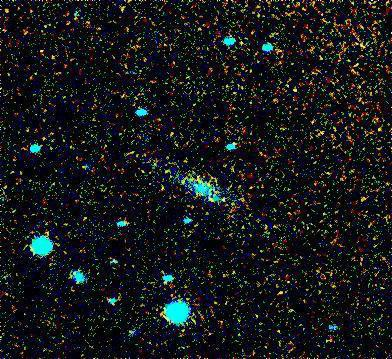star: (197, 185, 227, 215)
